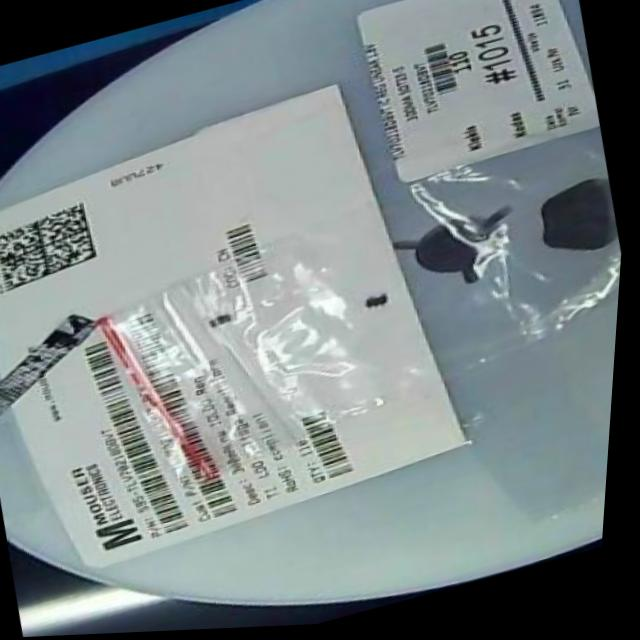datamatrix: (1, 198, 110, 296)
